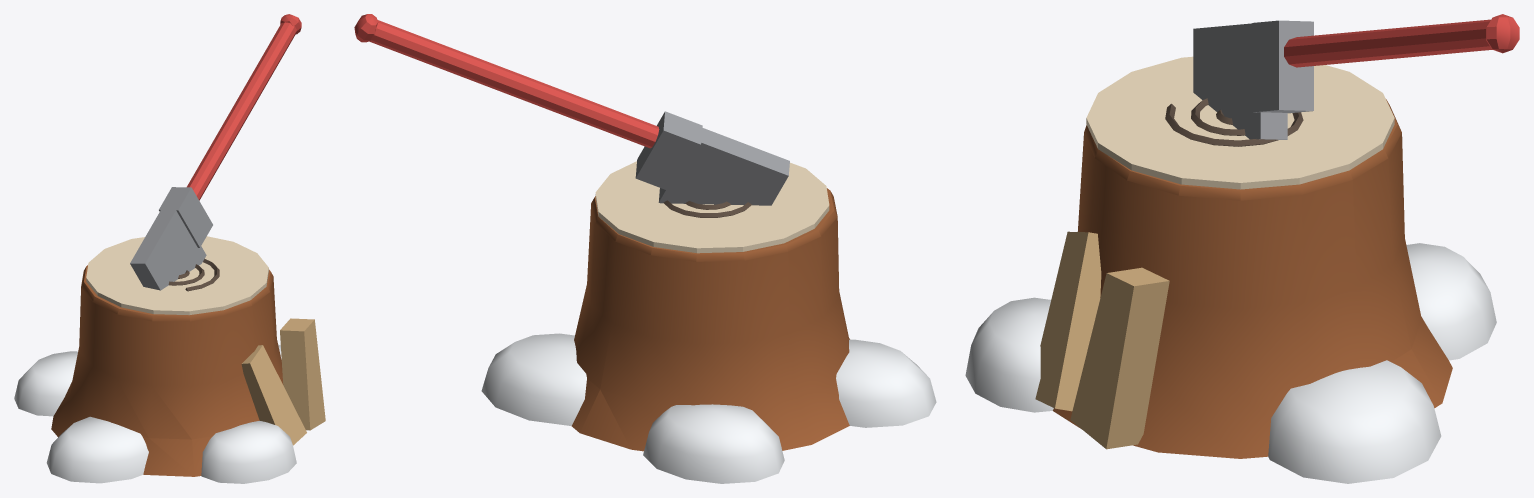
The model's file is StumpWithAxe.obj.
3 renders of one model, left to right at view 1: azimuth 30°, elevation 25°; view 2: azimuth 150°, elevation 25°; view 3: azimuth 270°, elevation 25°, orthographic. The views are drawn at different scales.
Parts seen in each view (by area): view 1: StumpWithAxe; view 2: StumpWithAxe; view 3: StumpWithAxe.
Boxes of the visible parts, box(x1,y1,x2,y2) form: StumpWithAxe: box(14, 14, 325, 483); StumpWithAxe: box(354, 14, 936, 483); StumpWithAxe: box(965, 14, 1519, 483).
Bounding box in the file's own units: 7.5 × 6.3 × 6.18.
1 material, 1 textured.
